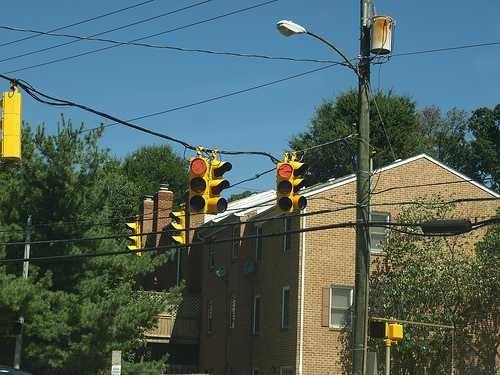red: (187, 156, 209, 214), (275, 162, 295, 215), (188, 156, 207, 177), (276, 162, 294, 180)
